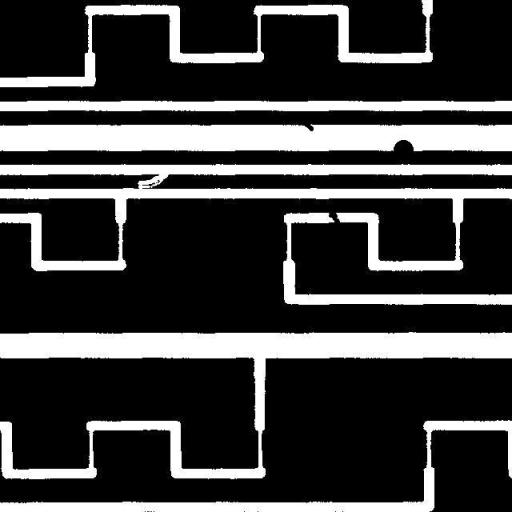open: (130, 164, 176, 196)
short: (320, 202, 347, 232)
spur: (386, 132, 420, 167), (294, 112, 320, 138)
